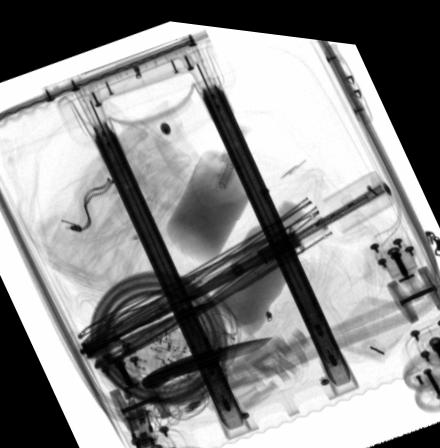Knife: (141, 329, 271, 384)
